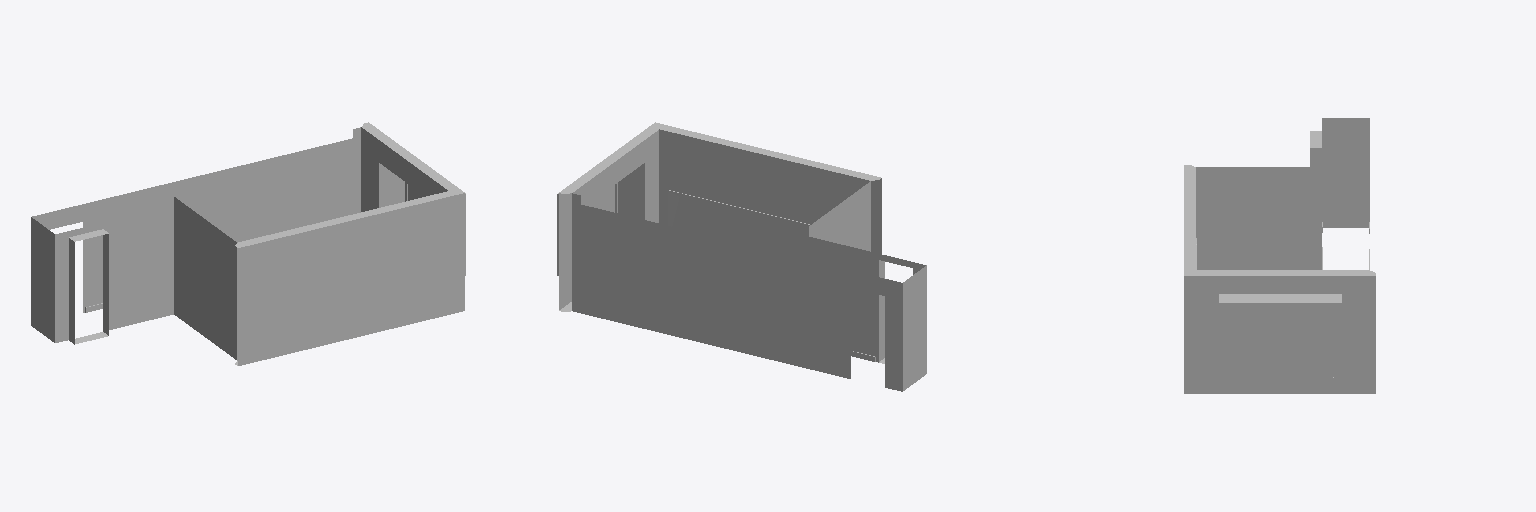
File: MasterBedroom-4710w.obj
3 renders of one model, left to right at view 1: azimuth 30°, elevation 25°; view 2: azimuth 150°, elevation 25°; view 3: azimuth 270°, elevation 25°, orthographic.
Size of the model in its own units: 8.28 by 2.6 by 3.84.